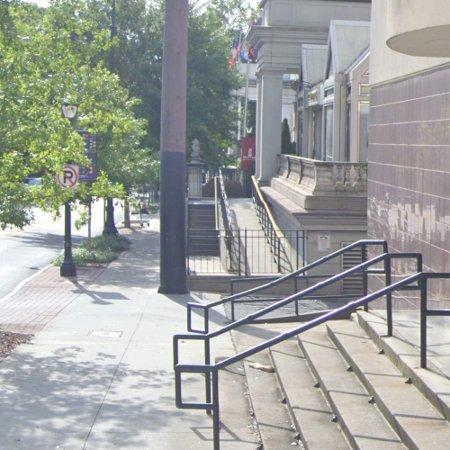stairs: (245, 311, 450, 450), (188, 202, 219, 256), (188, 230, 220, 257)
